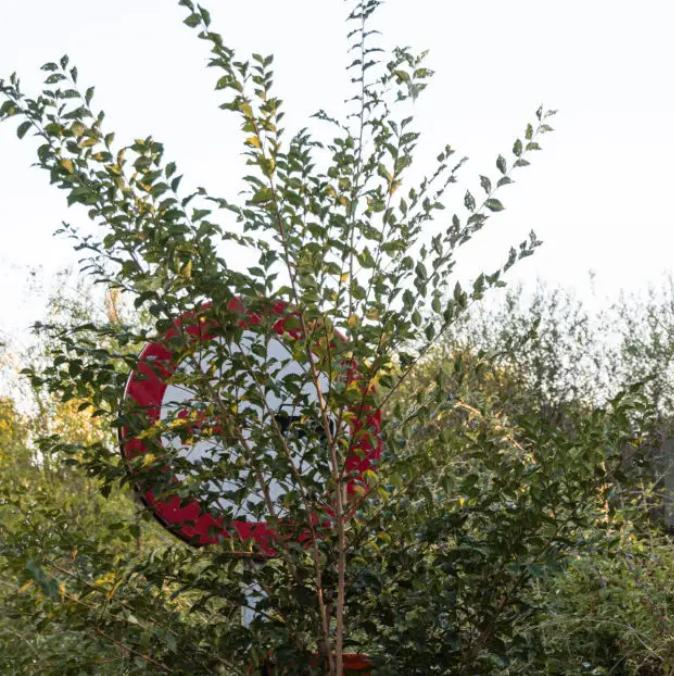obstructed_road_sign: (118, 292, 388, 555)
